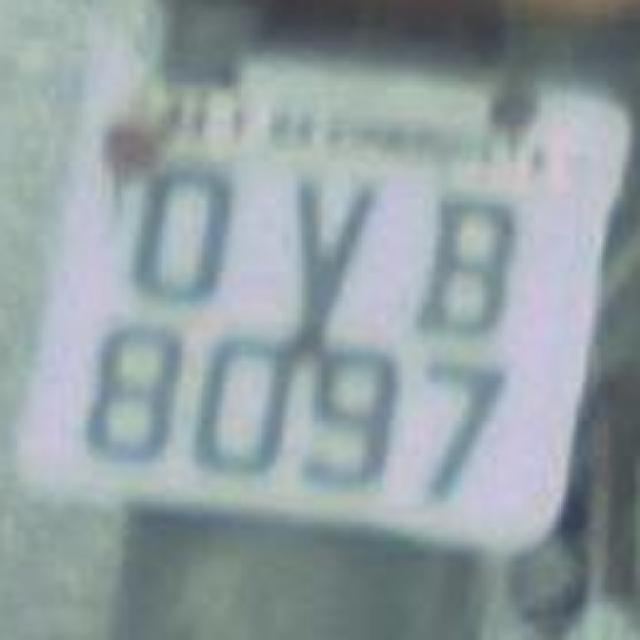0: (185, 304, 300, 488)
3: (0, 1, 1, 2)
7: (389, 340, 516, 528)
8: (65, 280, 200, 480)
9: (280, 324, 412, 504)
B: (396, 172, 524, 352)
O: (112, 132, 248, 316)
V: (264, 152, 384, 340)
